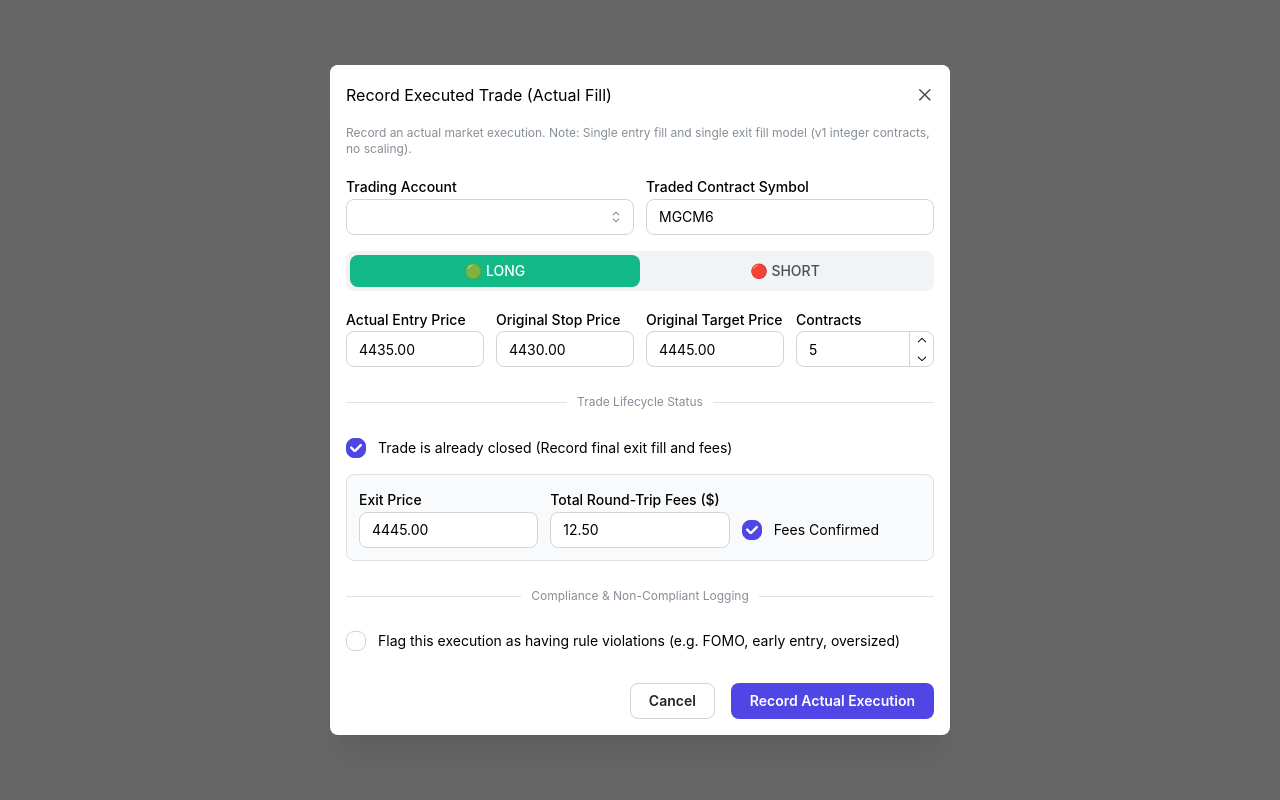
Test: TradeRecordExecutionModal Component › requires explicit violation acknowledgment when logging non-compliant trades
Step 1. Click the checkbox labelled "Flag this execution as having rule violations" → (356, 641), box [346,631,366,651]
(page scrolled)
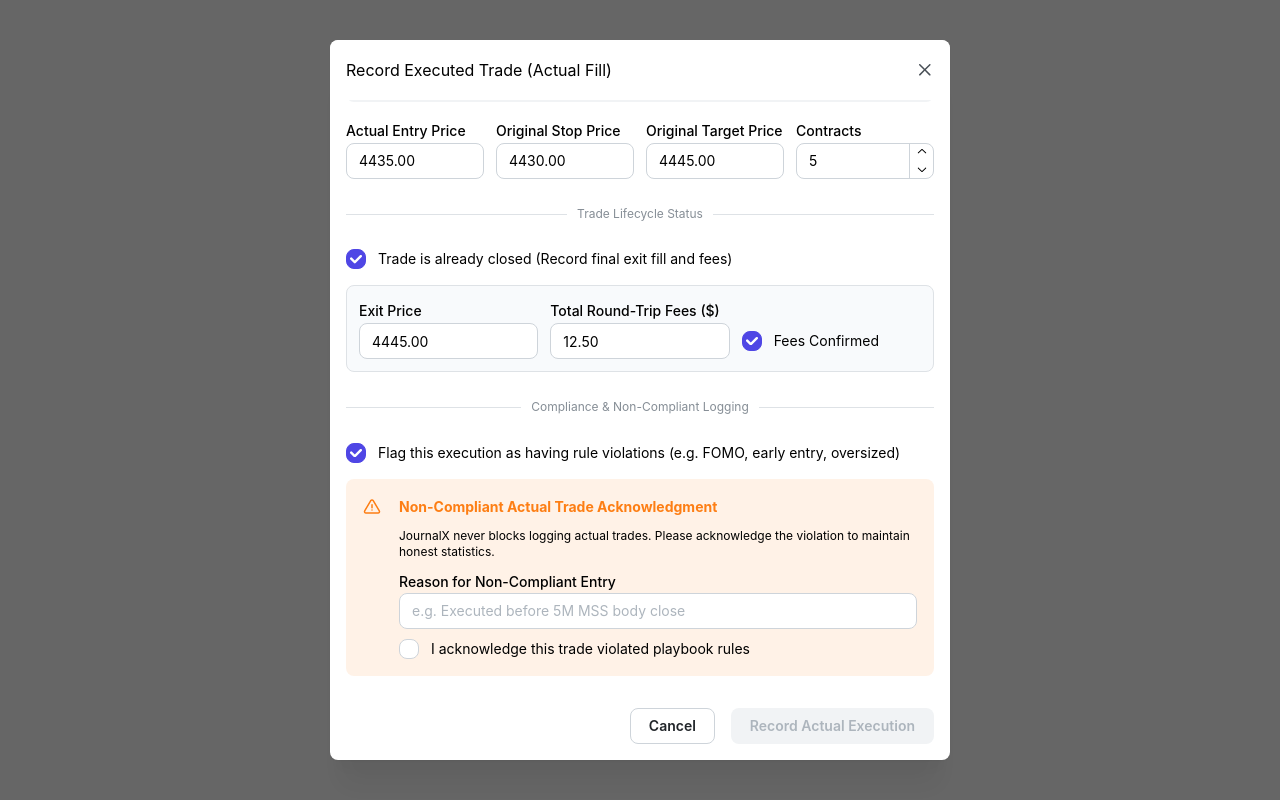
Check: the checkbox labelled "Flag this execution as having rule violations" is checked, box [346,443,366,463]
Check: the text "Non-Compliant Actual Trade Acknowledgment" is shown, box [399,496,717,518]
Check: the button "Record Actual Execution" is disabled, box [731,708,934,744]
Note: Check the acknowledgment checkbox
Step 2. Click the checkbox labelled "I acknowledge this trade violated playbook rules" → (409, 649), box [399,639,419,659]
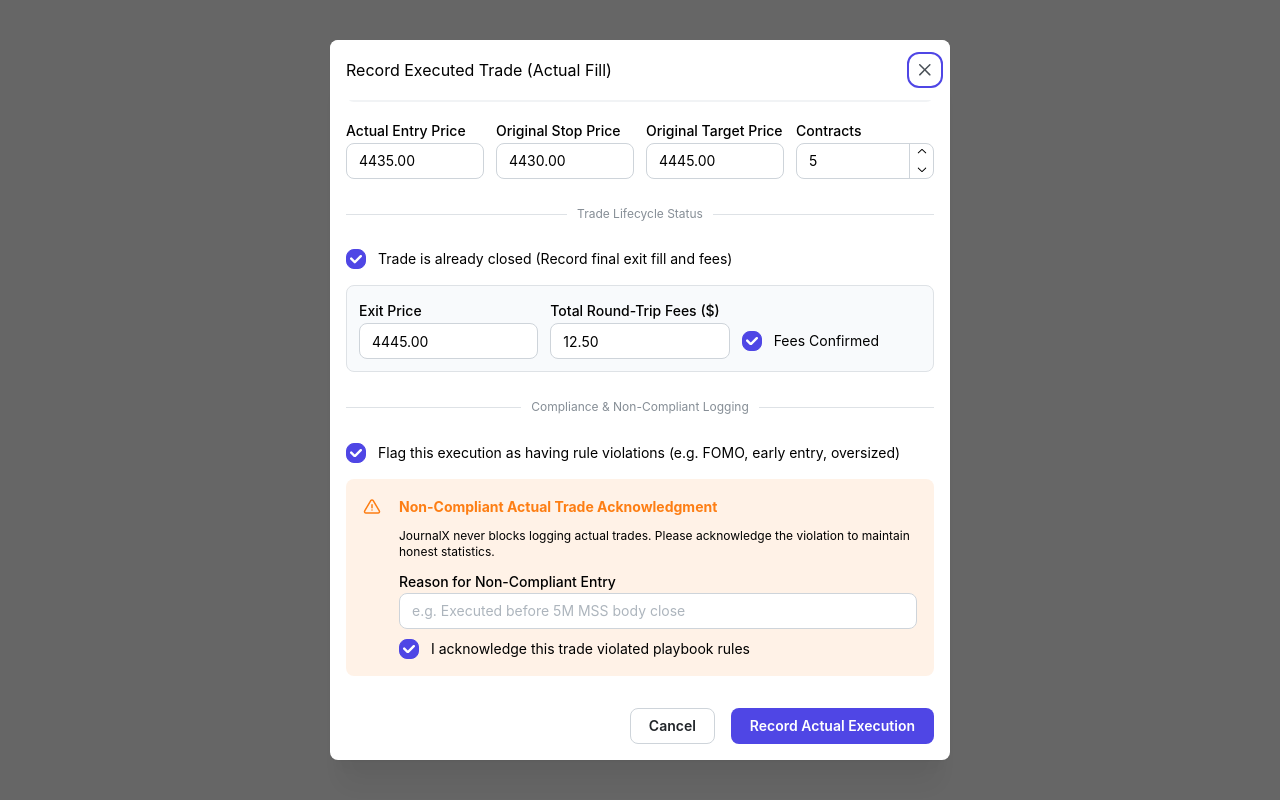
Check: the button "Record Actual Execution" is enabled, box [731,708,934,744]
